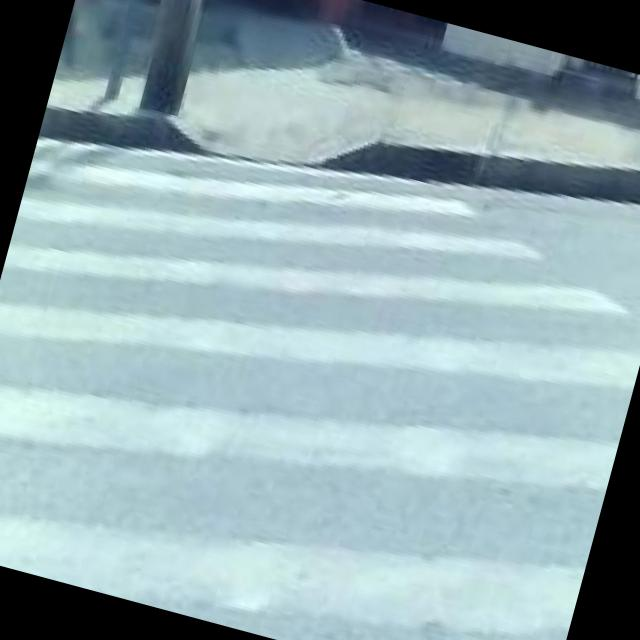zebra: (0, 140, 640, 640)
